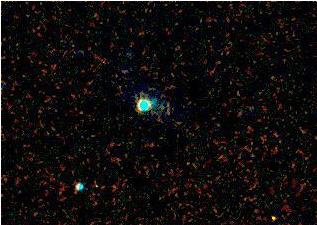star: (260, 202, 290, 225)
